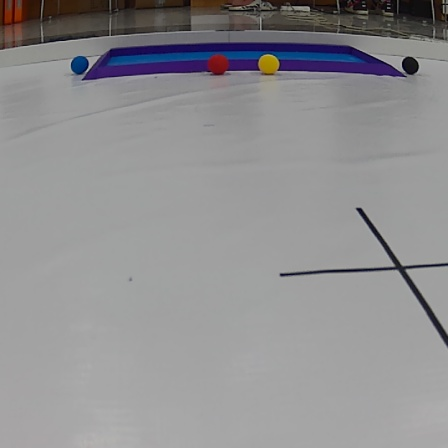black: (400, 54, 423, 78)
blue: (68, 56, 91, 73)
blue_aim: (84, 40, 406, 80)
red: (208, 54, 231, 75)
yellow: (257, 52, 281, 75)
